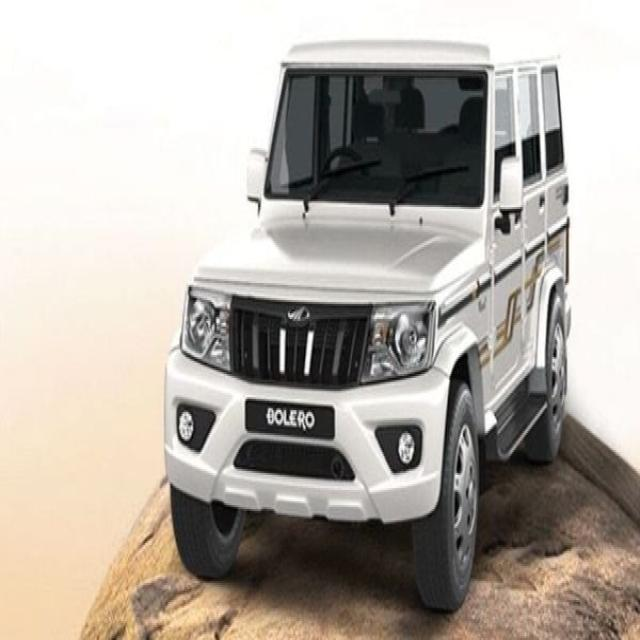light_vehicle: (162, 46, 570, 601)
